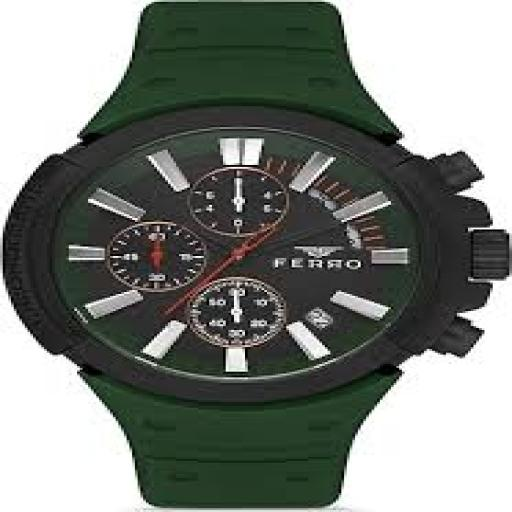KolSaati: (6, 0, 503, 511)
